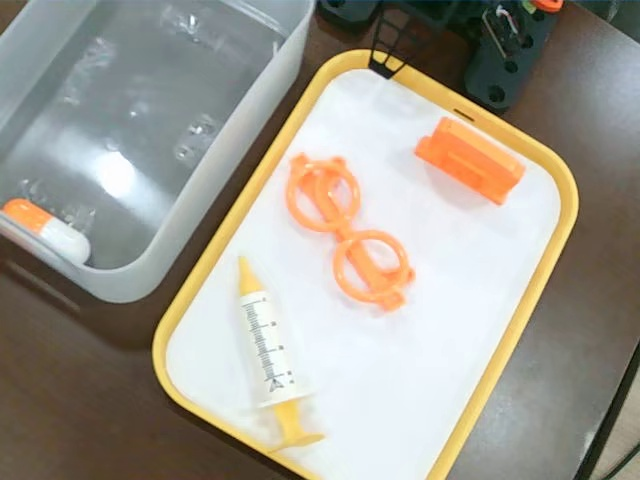pill: (1, 195, 95, 271)
syringe: (231, 252, 329, 459)
